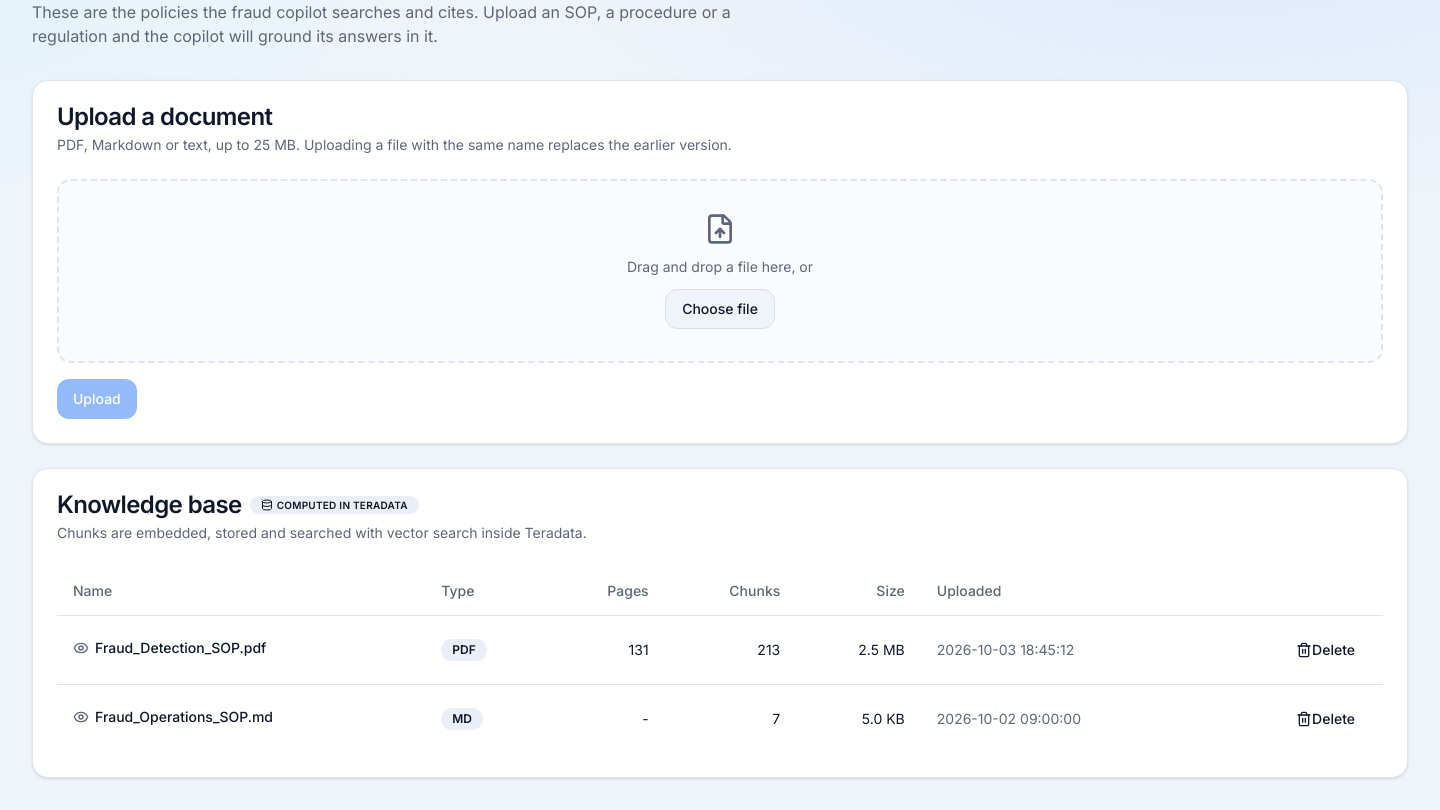
Documents page: view the original › every uploaded document can be opened, and a text document shows its content
This screenshot has width=1440, height=810.
(page scrolled)
Click the button with aria-label "View Fraud_Operations_SOP.md" at (173, 717), box [73,707,273,727]
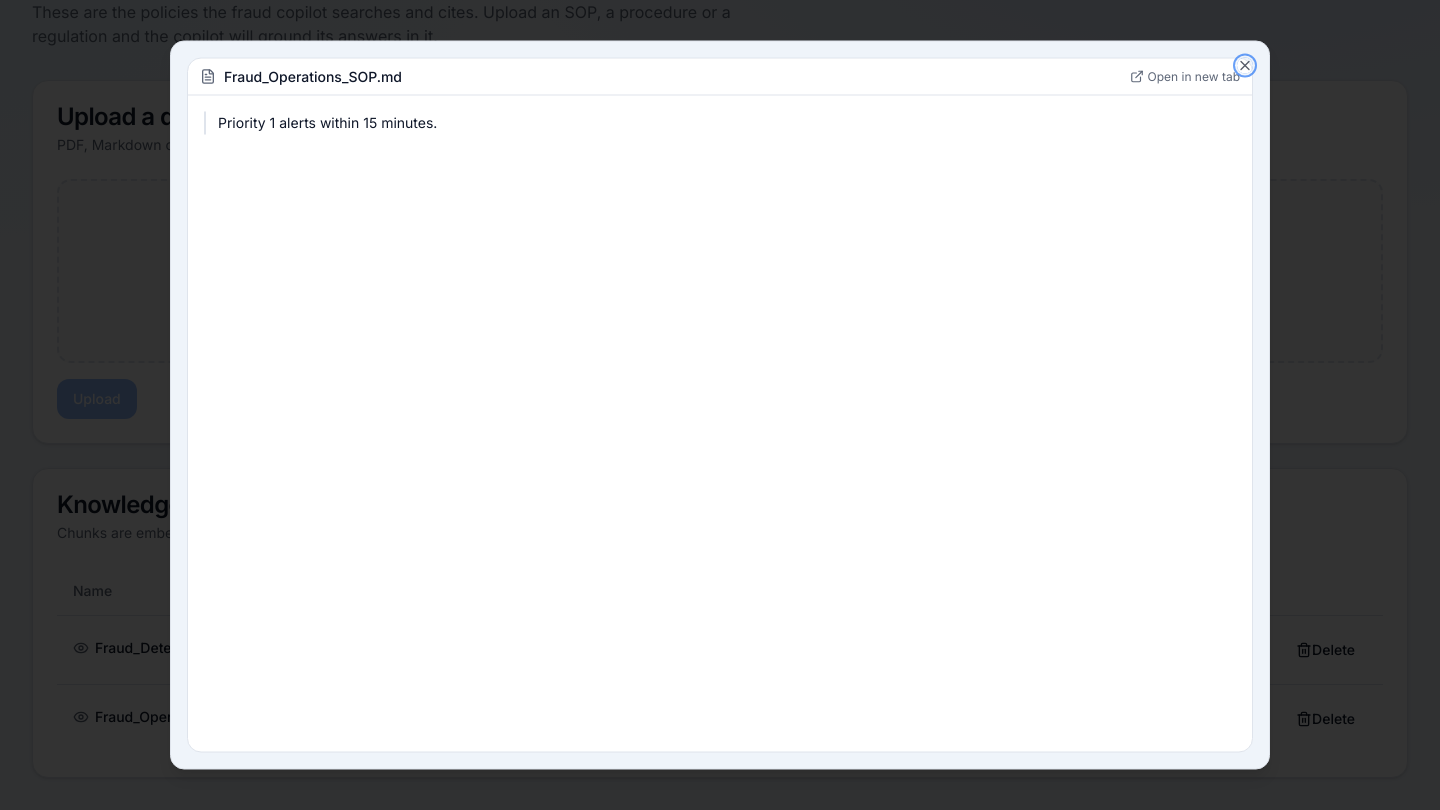
Expected: the text "Priority 1 alerts within 15 minutes." is shown, [204,112,1236,134]
